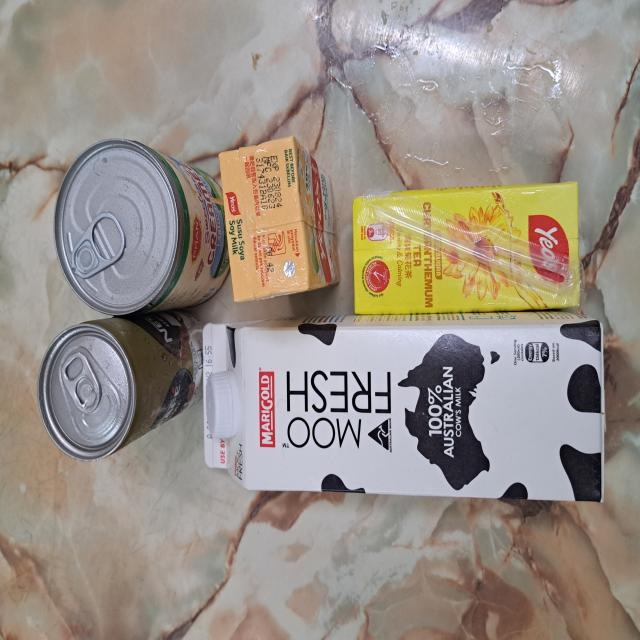can: (54, 135, 228, 316), (39, 316, 200, 460)
drink carton: (202, 316, 608, 504), (352, 182, 582, 311), (218, 135, 340, 303)
plastic bottle cap: (206, 366, 240, 440)
pop tab: (74, 211, 127, 281), (61, 350, 104, 414)
